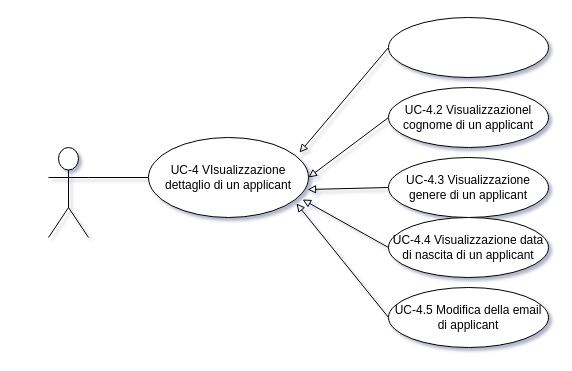
Image size: 572x371. Some labels were removed from this diagram. The centre of each missing label's shape, as x and y in pixels:
UC-4.1 Visualizzazione nome di un applicant: [468,47]
Utente riconosciuto: [68,192]
